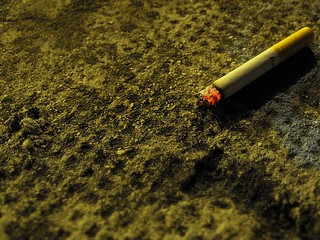cigarette: (193, 25, 317, 112)
